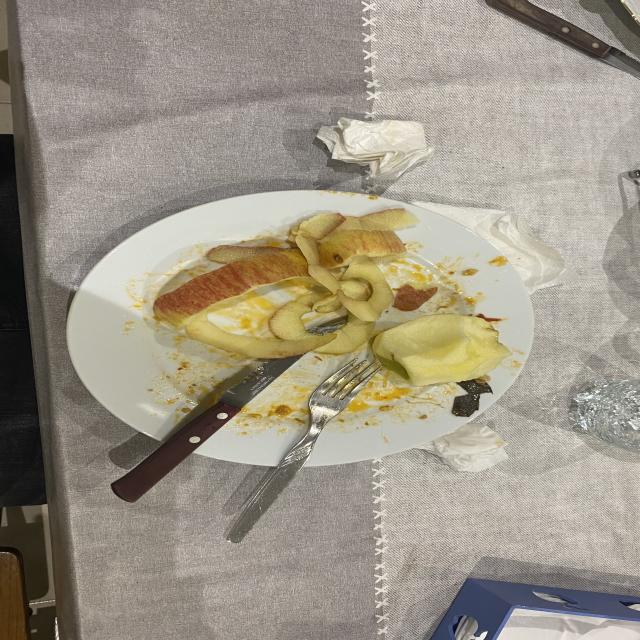apple: (372, 314, 512, 386)
fork: (228, 354, 381, 543)
garbage: (153, 208, 419, 358), (317, 118, 433, 179), (451, 378, 492, 417), (393, 284, 437, 311)
knife: (111, 355, 301, 502)
plate: (67, 191, 533, 466), (196, 351, 351, 466)
water cup: (569, 380, 640, 451)
